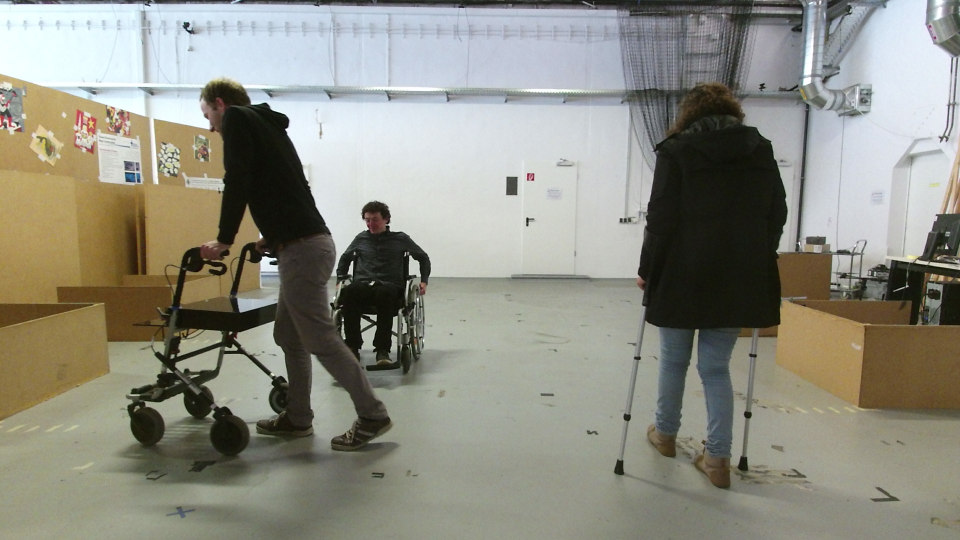crutches: (608, 82, 790, 492)
wheelchair: (331, 191, 434, 380)
